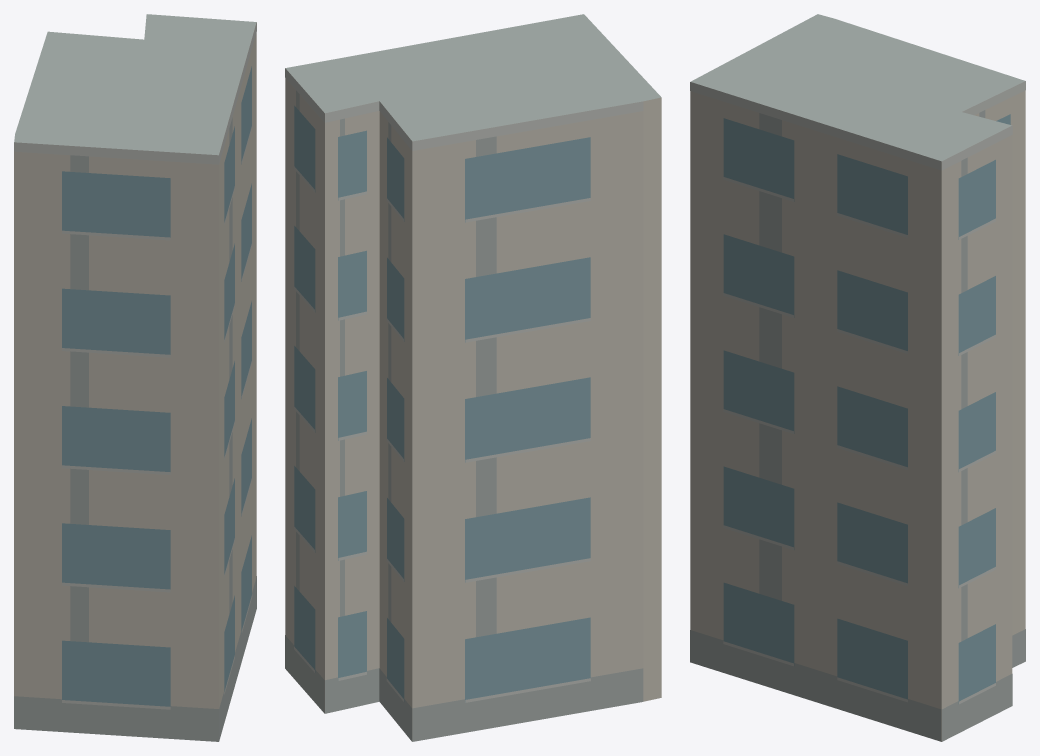
The model's file is survey-upis-32766863.glb.
3 views of the same model, side by side, from view 1: azimuth 30°, elevation 25°; view 2: azimuth 150°, elevation 25°; view 3: azimuth 270°, elevation 25° (orthographic). The views are drawn at different scales.
Parts seen in each view (by area): view 1: survey-upis-32766863.tmp; view 2: survey-upis-32766863.tmp; view 3: survey-upis-32766863.tmp.
Part boxes in pixels (x1,y1,x2,y2): survey-upis-32766863.tmp: (14,14,256,741); survey-upis-32766863.tmp: (285,14,661,741); survey-upis-32766863.tmp: (690,14,1025,741).
Bounding box in the file's own units: 8.31 × 15.25 × 7.99.
